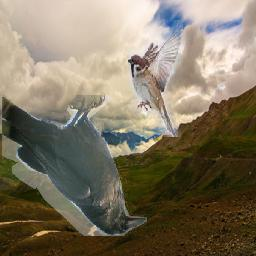Crow: (3, 96, 148, 237)
Sparrow: (129, 21, 184, 138)
